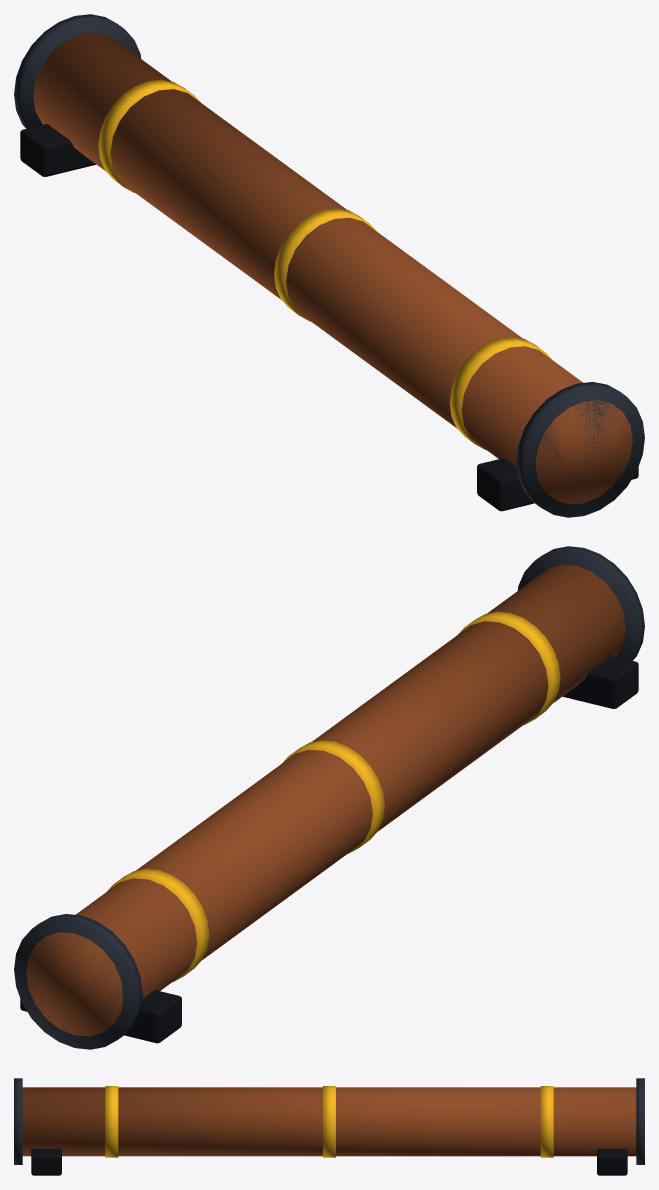
File: Conduit4.fbx
3 renders of one model, top to bottom at view 1: azimuth 30°, elevation 25°; view 2: azimuth 150°, elevation 25°; view 3: azimuth 270°, elevation 25°, orthographic. The views are drawn at different scales.
Visible parts, largest first — view 1: Rust_Pipe0, Metal_Flange0, Metal_Flange1, Tread_Chock1, Tread_Chock0, Hazard_Band1.002, Hazard_Band2.001, Hazard_Band0.003; view 2: Rust_Pipe0, Metal_Flange1, Metal_Flange0, Tread_Chock0, Tread_Chock1, Hazard_Band1.002, Hazard_Band0.003, Hazard_Band2.001; view 3: Rust_Pipe0, Hazard_Band0.003, Hazard_Band2.001, Hazard_Band1.002, Tread_Chock0, Tread_Chock1, Metal_Flange0, Metal_Flange1.
Part boxes in pixels (x1,y1,x2,y2): Rust_Pipe0: (33,32,632,504); Metal_Flange0: (516,382,644,517); Metal_Flange1: (14,14,141,128); Tread_Chock1: (20,124,95,176); Tread_Chock0: (477,458,638,511); Hazard_Band1.002: (274,208,376,321); Hazard_Band2.001: (98,79,200,192); Hazard_Band0.003: (449,336,551,450); Rust_Pipe0: (26,564,625,1036); Metal_Flange1: (14,914,142,1049); Metal_Flange0: (517,546,644,660); Tread_Chock0: (563,656,638,708); Tread_Chock1: (20,990,181,1043); Hazard_Band1.002: (282,740,384,853); Hazard_Band0.003: (458,611,560,724); Hazard_Band2.001: (107,868,209,982); Rust_Pipe0: (22,1087,636,1156); Hazard_Band0.003: (105,1086,118,1157); Hazard_Band2.001: (540,1086,553,1157); Hazard_Band1.002: (323,1086,335,1157); Tread_Chock0: (31,1148,61,1175); Tread_Chock1: (597,1148,627,1175); Metal_Flange0: (14,1078,22,1164); Metal_Flange1: (636,1078,644,1164).
Bounding box in the file's own units: 0.46 × 2.9 × 0.4.
